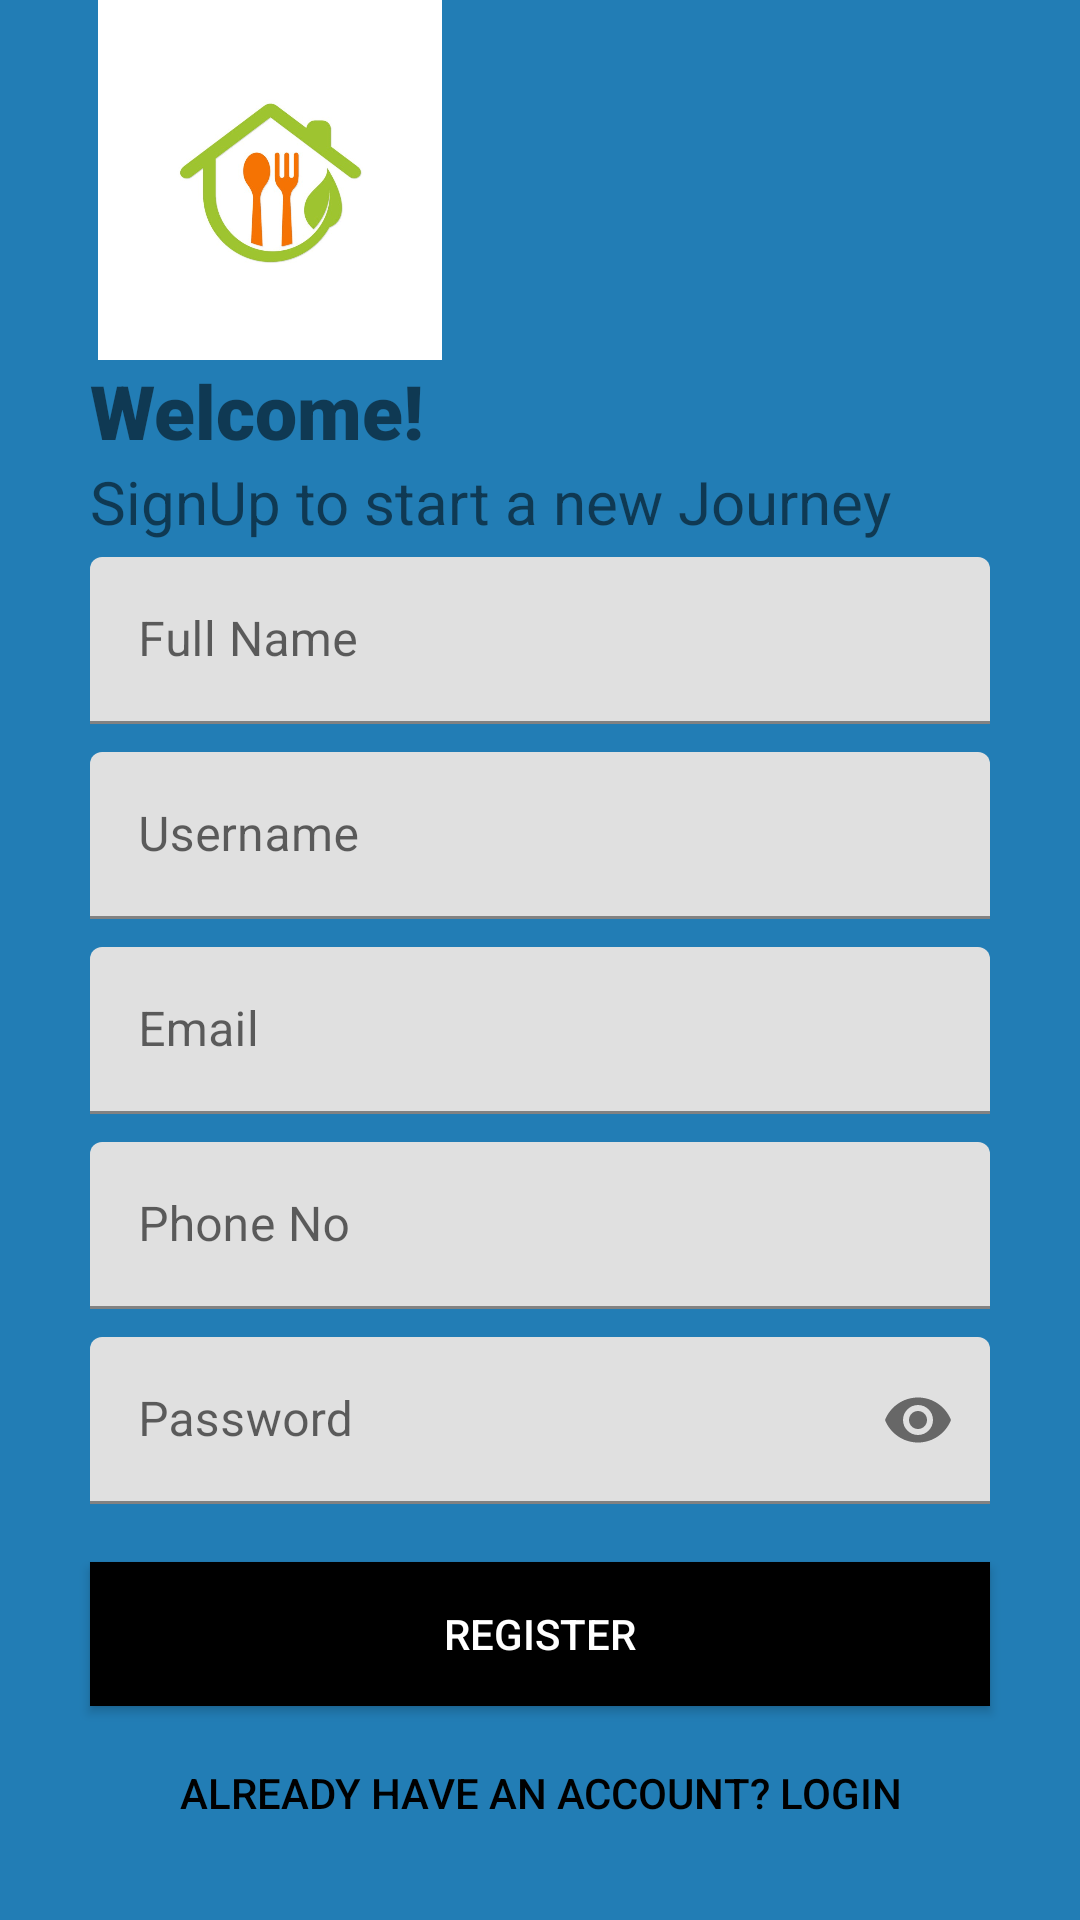

Icons on this 1080*1920 Android screen, each with its box as (x1, y1, x2, y2):
food: (98, 0, 442, 360)
